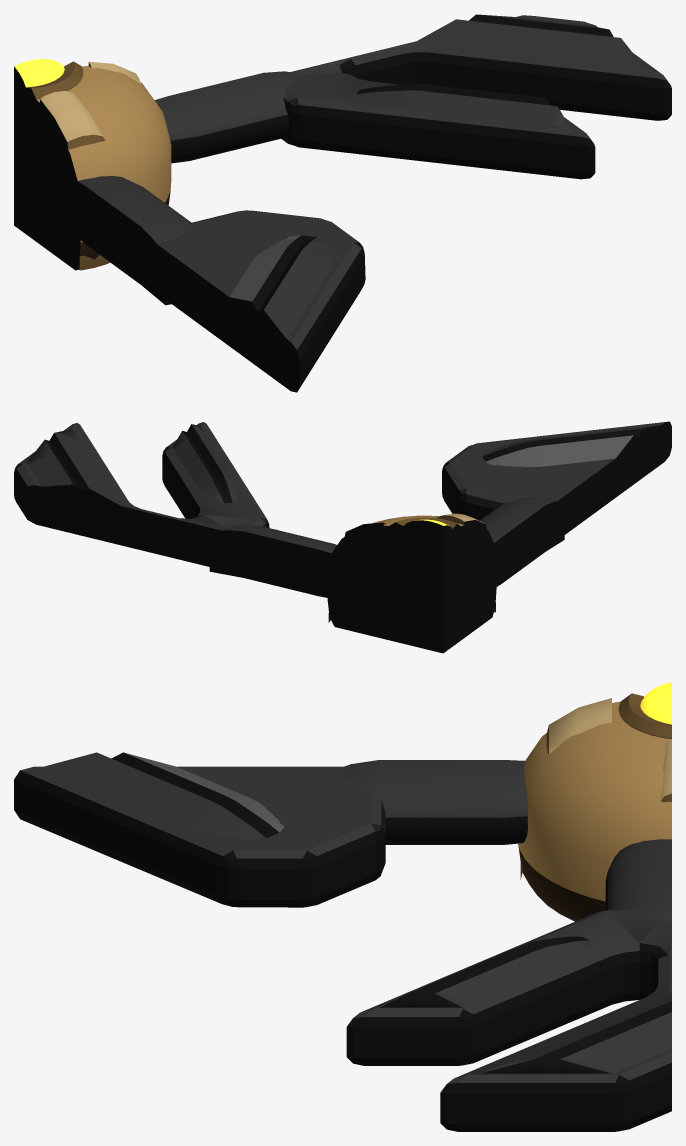
Rendered from spin_claw_129.glb.
3 views of the same model, one above another, from view 1: azimuth 30°, elevation 25°; view 2: azimuth 150°, elevation 25°; view 3: azimuth 270°, elevation 25° (orthographic). The views are drawn at different scales.
Visible parts, largest first — view 1: spin_claw_129_arm1_plate, spin_claw_129_arm2_plate, spin_claw_129_hub_dome, spin_claw_129_arm2_rod, spin_claw_129_arm1_rod, spin_claw_129_arm2_ridge0, spin_claw_129_arm1_ridge0, spin_claw_129_arm1_ridge1, spin_claw_129_hub_rib2, spin_claw_129_hub_lens, spin_claw_129_hub_bezel; view 2: spin_claw_129_hub_dome, spin_claw_129_arm1_plate, spin_claw_129_arm2_plate, spin_claw_129_arm1_rod, spin_claw_129_arm2_rod, spin_claw_129_arm2_ridge0, spin_claw_129_arm1_ridge0, spin_claw_129_arm1_ridge1, spin_claw_129_hub_lens, spin_claw_129_hub_bezel, spin_claw_129_hub_rib2; view 3: spin_claw_129_arm1_plate, spin_claw_129_arm2_plate, spin_claw_129_hub_dome, spin_claw_129_arm2_rod, spin_claw_129_arm2_ridge0, spin_claw_129_arm1_ridge0, spin_claw_129_arm1_ridge1, spin_claw_129_arm1_rod, spin_claw_129_hub_rib2, spin_claw_129_hub_bezel, spin_claw_129_hub_lens.
Part boxes in pixels (x1,y1,x2,y2): spin_claw_129_arm1_plate: [281, 15, 671, 179]; spin_claw_129_arm2_plate: [138, 210, 365, 392]; spin_claw_129_hub_dome: [14, 66, 171, 270]; spin_claw_129_arm2_rod: [51, 165, 191, 305]; spin_claw_129_arm1_rod: [154, 71, 294, 163]; spin_claw_129_arm2_ridge0: [224, 235, 333, 351]; spin_claw_129_arm1_ridge0: [417, 14, 643, 66]; spin_claw_129_arm1_ridge1: [356, 83, 569, 127]; spin_claw_129_hub_rib2: [40, 91, 109, 270]; spin_claw_129_hub_lens: [14, 59, 64, 99]; spin_claw_129_hub_bezel: [14, 61, 83, 107]; spin_claw_129_hub_dome: [327, 515, 496, 653]; spin_claw_129_arm1_plate: [14, 422, 269, 573]; spin_claw_129_arm2_plate: [442, 421, 671, 547]; spin_claw_129_arm1_rod: [209, 525, 367, 604]; spin_claw_129_arm2_rod: [473, 497, 564, 601]; spin_claw_129_arm2_ridge0: [482, 425, 660, 466]; spin_claw_129_arm1_ridge0: [26, 429, 125, 512]; spin_claw_129_arm1_ridge1: [172, 424, 237, 503]; spin_claw_129_hub_lens: [403, 519, 453, 549]; spin_claw_129_hub_bezel: [389, 517, 460, 547]; spin_claw_129_hub_rib2: [437, 513, 495, 612]; spin_claw_129_arm1_plate: [346, 909, 671, 1131]; spin_claw_129_arm2_plate: [14, 766, 385, 907]; spin_claw_129_hub_dome: [518, 701, 671, 921]; spin_claw_129_arm2_rod: [343, 760, 527, 844]; spin_claw_129_arm2_ridge0: [44, 752, 284, 840]; spin_claw_129_arm1_ridge0: [481, 993, 671, 1073]; spin_claw_129_arm1_ridge1: [380, 936, 590, 1007]; spin_claw_129_arm1_rod: [605, 839, 671, 921]; spin_claw_129_hub_rib2: [520, 698, 611, 879]; spin_claw_129_hub_bezel: [618, 693, 671, 738]; spin_claw_129_hub_lens: [640, 682, 671, 724].
Bounding box in the file's own units: 19.06 × 5.24 × 16.86.
